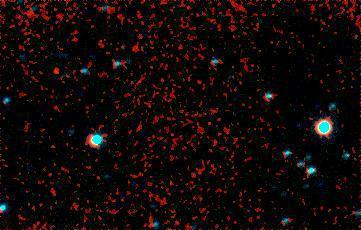star: (43, 57, 73, 87)
